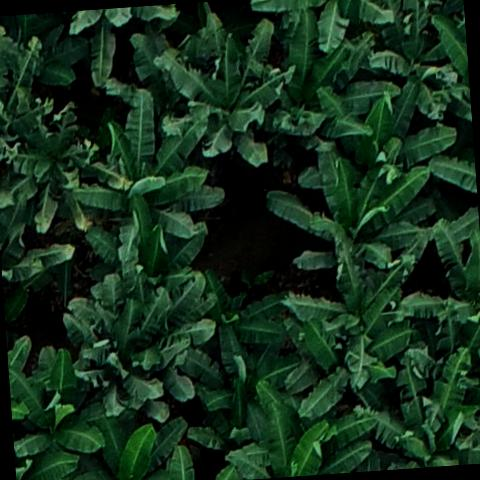Banana-plant: (259, 150, 440, 302), (67, 84, 222, 252), (276, 286, 430, 420), (273, 0, 406, 145), (60, 284, 192, 422), (166, 30, 294, 170), (360, 345, 480, 471), (314, 80, 458, 179), (172, 316, 310, 414), (364, 0, 469, 124), (7, 346, 104, 480), (3, 116, 96, 236), (184, 264, 292, 359), (63, 406, 197, 480), (0, 10, 95, 93), (428, 215, 480, 354)
